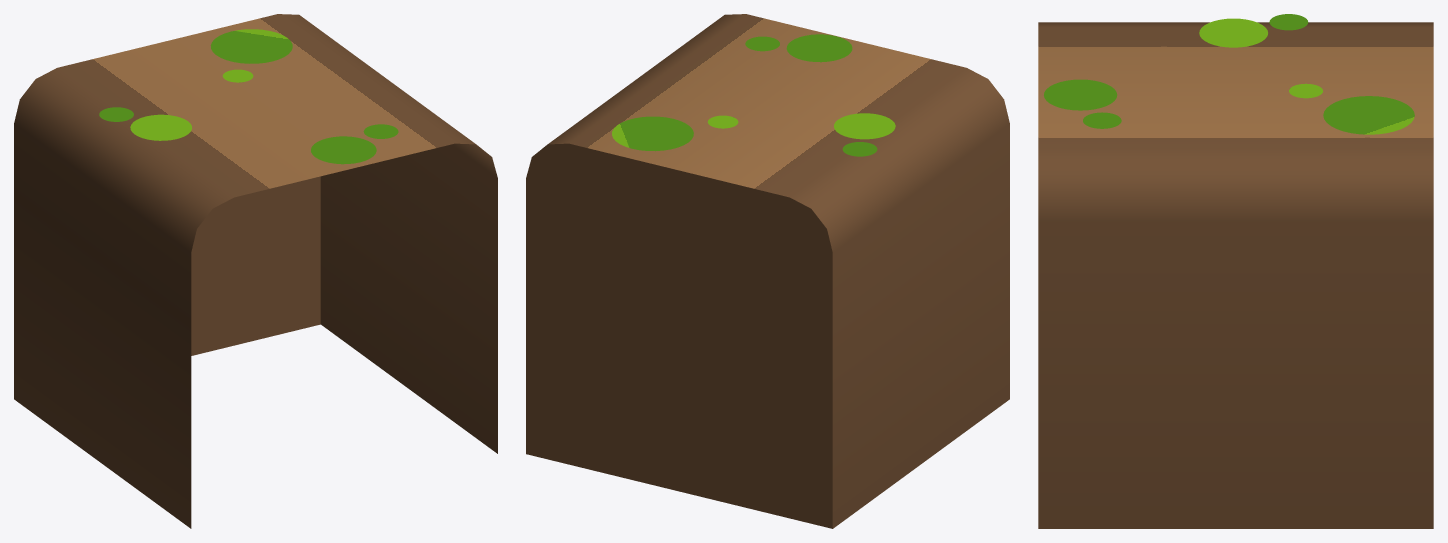
The model's file is GROUND_with_leafs_variant.fbx.
The picture shows the model from 3 angles, left to right: view 1: azimuth 30°, elevation 25°; view 2: azimuth 150°, elevation 25°; view 3: azimuth 270°, elevation 25°; orthographic projection. The views are drawn at different scales.
Visible parts, largest first — view 1: Cube.027; view 2: Cube.027; view 3: Cube.027.
Part boxes in pixels (x1=…): Cube.027: x1=14, y1=14, x2=497, y2=528; Cube.027: x1=526, y1=14, x2=1009, y2=528; Cube.027: x1=1038, y1=14, x2=1433, y2=528.
Bounding box in the file's own units: 100 × 101 × 100.
